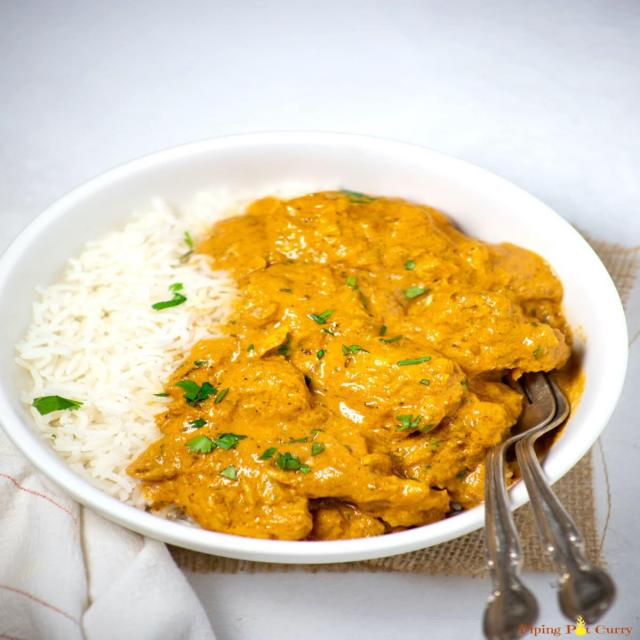chicken: (182, 204, 582, 540)
rice: (13, 214, 222, 478)
